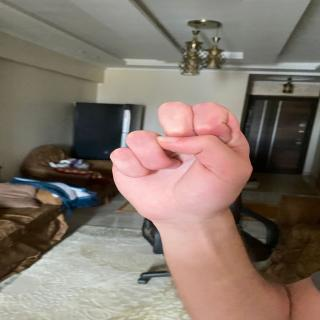QAAF: (101, 93, 265, 217)
